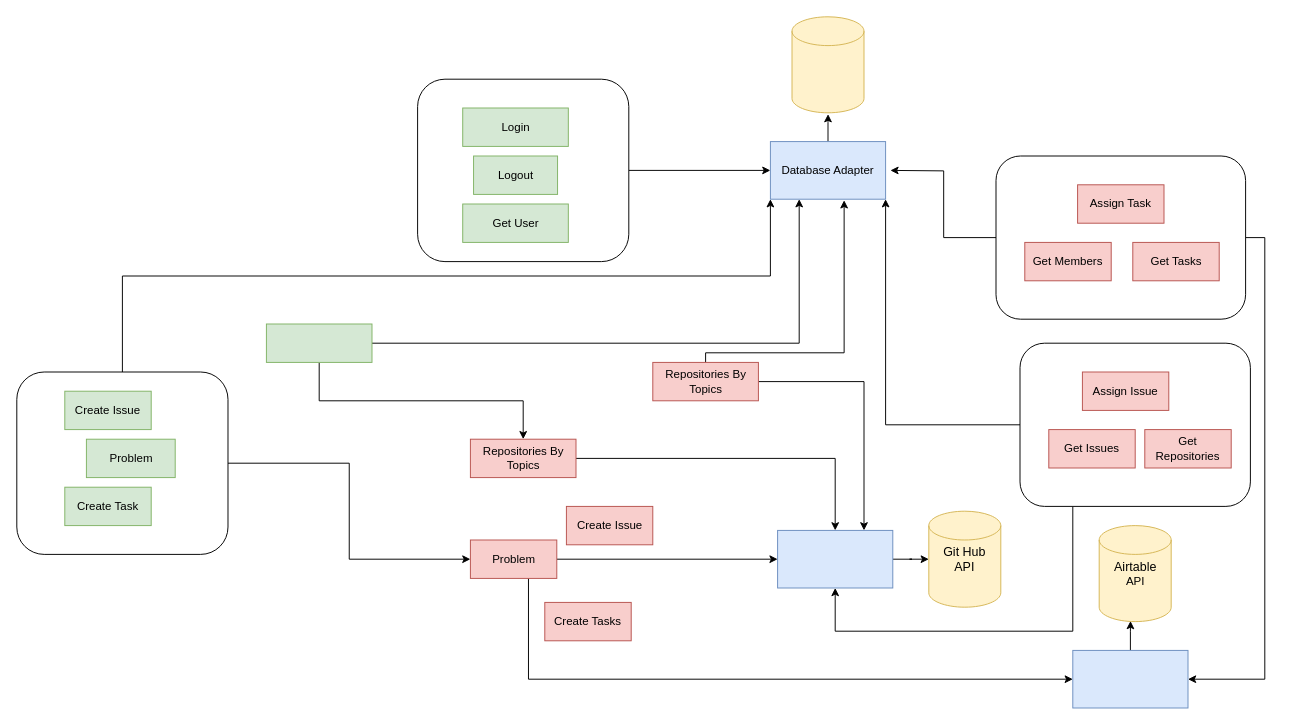
Image size: 1289x725. Some labels were removed from this diagram. The shapes that lost their labels are listed below. From the top down, each one's centre as x and y in pixels, then its label:
At point 827,64: "User DB".
At point 318,342: "Repositories".
At point 835,558: "GitHub Adapter".
At point 1130,678: "Airtable Adapter".
